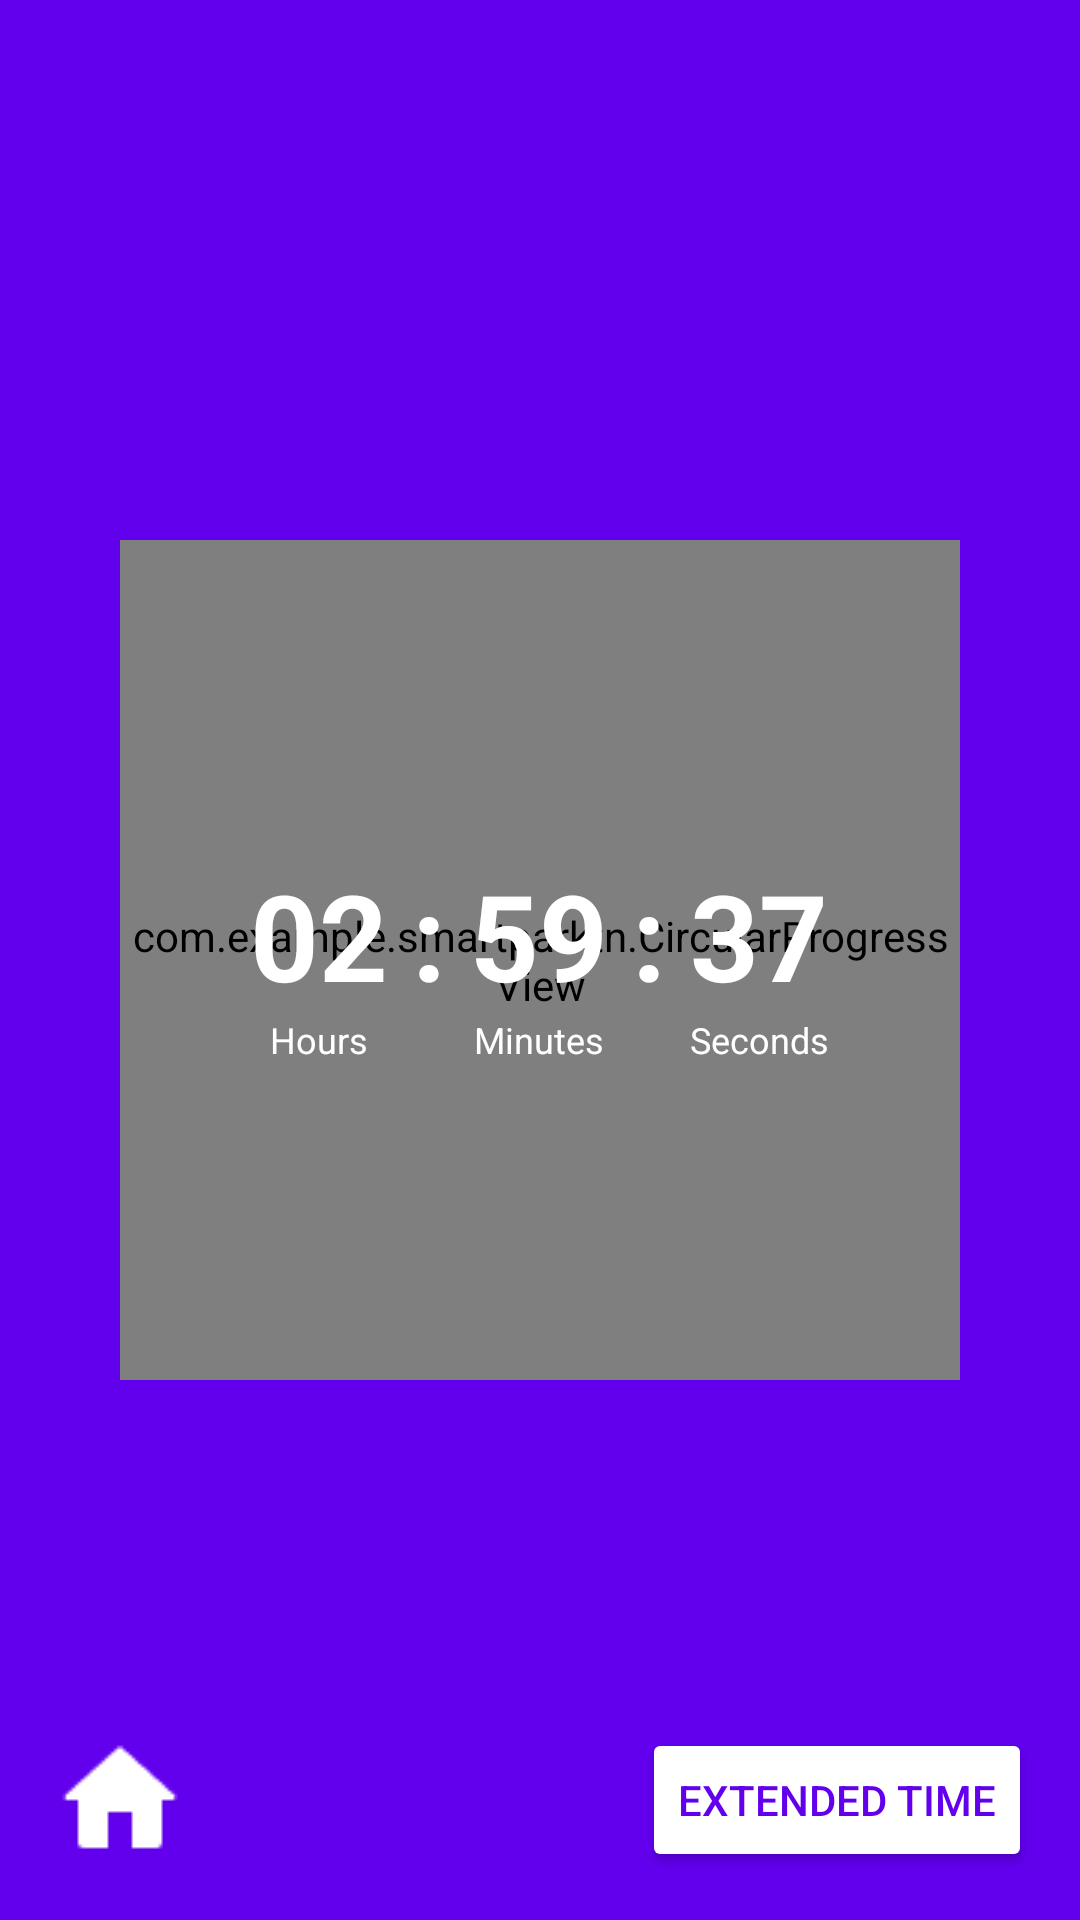

Icons on this 1080w x 1920h Android screen, each with its box as (x1, y1, x2, y2):
home: (63, 1745, 177, 1849)
